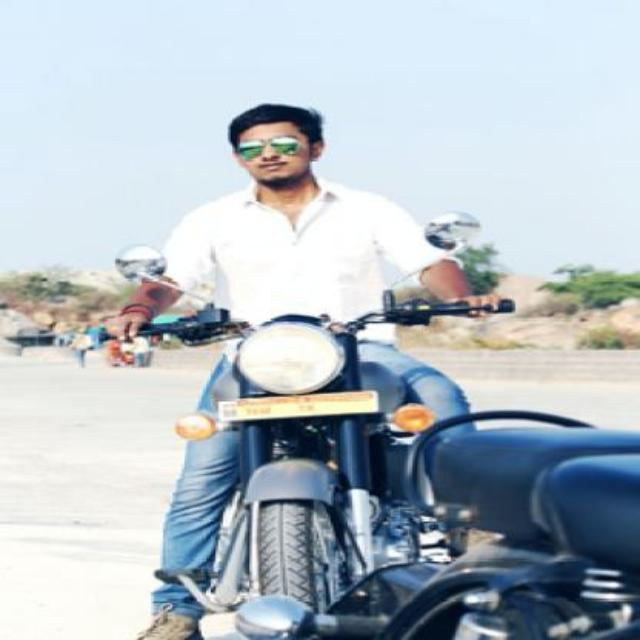sunglasses: (232, 136, 312, 156)
